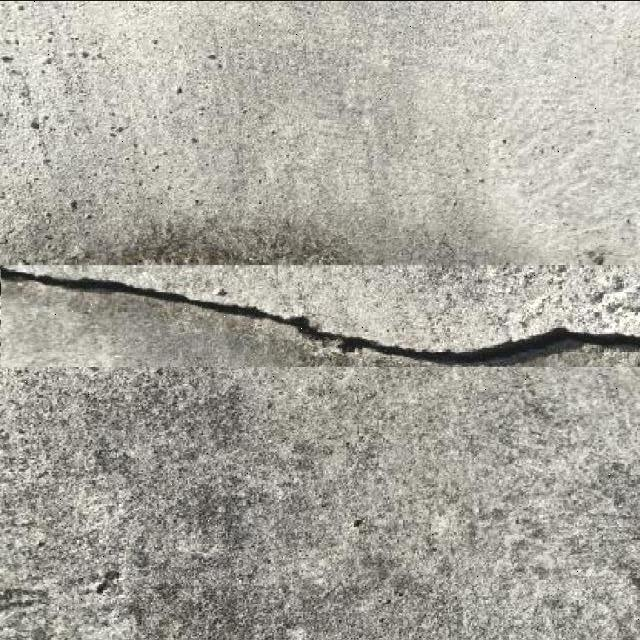crack: (0, 262, 639, 367), (7, 240, 631, 281)
dampness: (5, 381, 640, 634)
